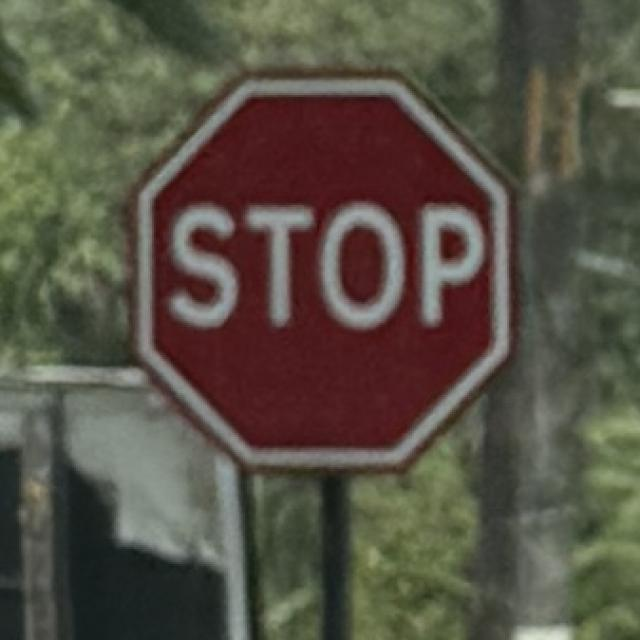STOP: (116, 60, 533, 484)
